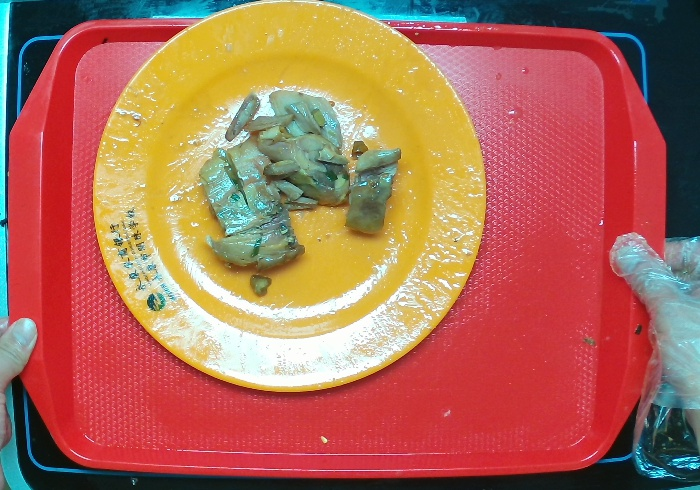YKMZ-Ju_Se_Mian_Pan: (90, 1, 488, 395)
